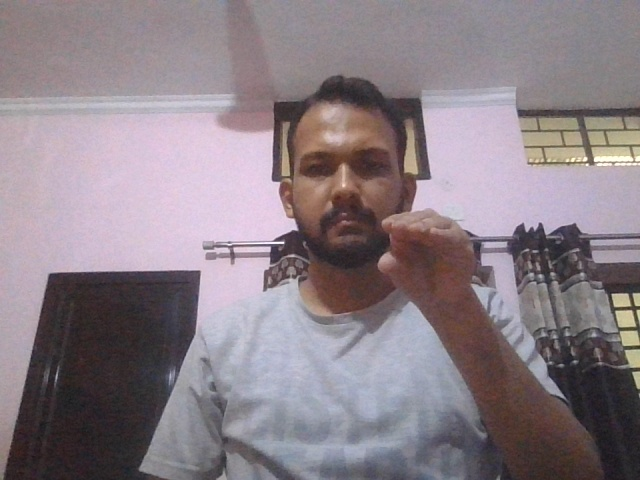no: (378, 207, 476, 310)
